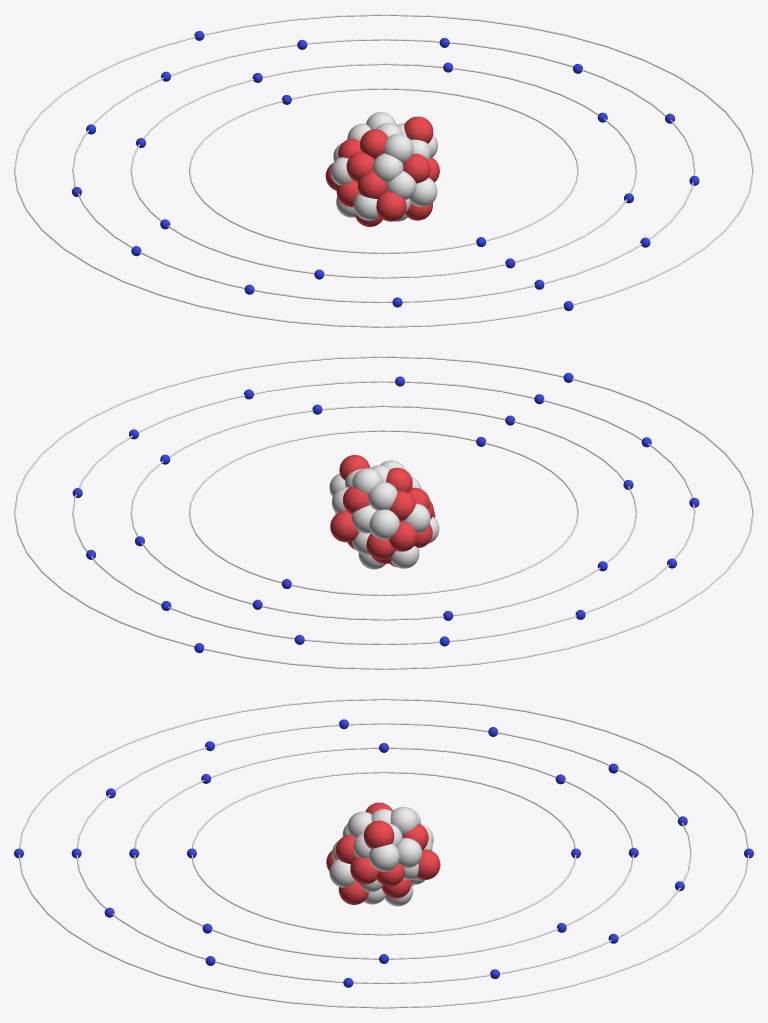
File: Mangan.glb
3 views of the same model, one above another, from view 1: azimuth 30°, elevation 25°; view 2: azimuth 150°, elevation 25°; view 3: azimuth 270°, elevation 25° (orthographic).
Visible parts, largest first — view 1: N-Schale, M-Schale, L-Schale, K-Schale, Proton 24, Neutron 29, Neutron 15, Proton 19, Proton 16, Proton 25, Proton 23, Proton 10 (+3 smaller); view 2: N-Schale, M-Schale, L-Schale, K-Schale, Neutron 8, Proton 18, Neutron 16, Proton 4, Neutron 30, Proton 8; view 3: N-Schale, M-Schale, L-Schale, K-Schale, Proton 25, Neutron 28, Neutron 22, Proton 22, Neutron 30, Proton 18, Neutron 27.
Part boxes in pixels (x1,y1,x2,y2): N-Schale: (14,14,753,327); M-Schale: (72,38,695,303); L-Schale: (130,63,637,278); K-Schale: (189,88,578,253); Proton 24: (376,191,406,221); Neutron 29: (384,134,413,163); Neutron 15: (373,153,403,182); Proton 19: (346,152,374,182); Proton 16: (360,129,388,159); Proton 25: (404,116,433,143); Proton 23: (403,153,430,183); Proton 10: (357,171,386,198); N-Schale: (14,356,753,669); M-Schale: (72,380,695,645); L-Schale: (130,405,637,620); K-Schale: (189,430,578,595); Neutron 8: (369,509,399,539); Proton 18: (330,511,359,542); Neutron 16: (368,481,397,510); Proton 4: (389,521,417,551); Neutron 30: (352,468,382,494); Proton 8: (389,490,415,521); N-Schale: (18,698,749,1008); M-Schale: (76,723,691,983); L-Schale: (134,747,633,959); K-Schale: (191,771,576,935); Proton 25: (363,820,394,848); Neutron 28: (369,843,399,871); Neutron 22: (397,838,422,867); Proton 22: (350,857,378,884); Neutron 30: (390,807,418,834); Proton 18: (417,849,440,879); Neutron 27: (329,859,355,887).
Bounding box in the file's own units: 19.04 × 2.82 × 19.26.
